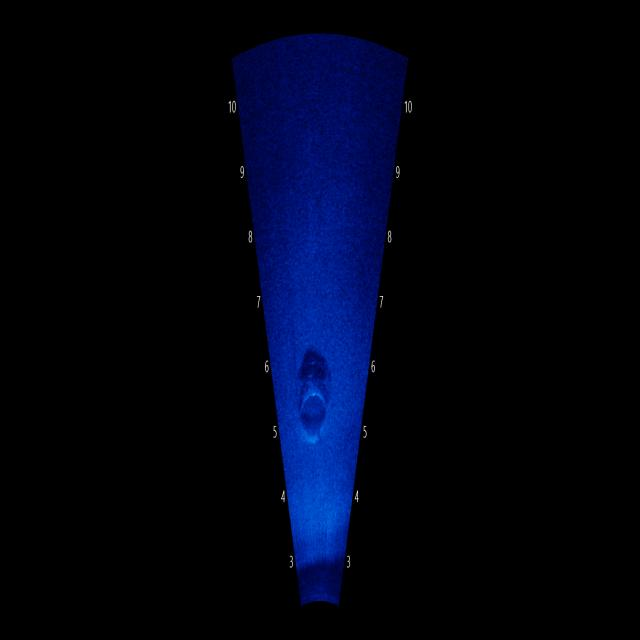circle: (287, 359, 343, 462)
